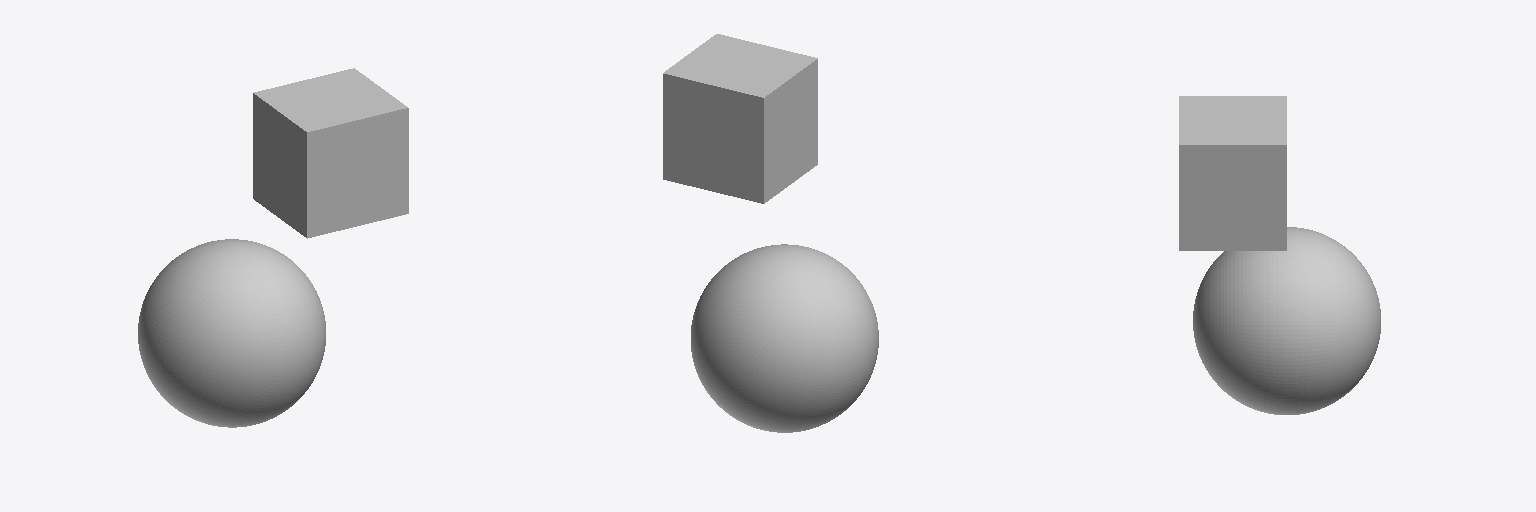
File: cuboESfera.obj
3 renders of one model, left to right at view 1: azimuth 30°, elevation 25°; view 2: azimuth 150°, elevation 25°; view 3: azimuth 270°, elevation 25°, orthographic.
Parts seen in each view (by area): view 1: object_1, object_2; view 2: object_1, object_2; view 3: object_1, object_2.
Boxes of the visible parts, x1=… form: object_1: x1=138, y1=239, x2=325, y2=427; object_2: x1=253, y1=68, x2=408, y2=238; object_1: x1=691, y1=244, x2=878, y2=432; object_2: x1=663, y1=34, x2=817, y2=203; object_1: x1=1193, y1=227, x2=1380, y2=414; object_2: x1=1179, y1=96, x2=1286, y2=250.
Bounding box in the file's own units: 26.58 × 40 × 22.9.